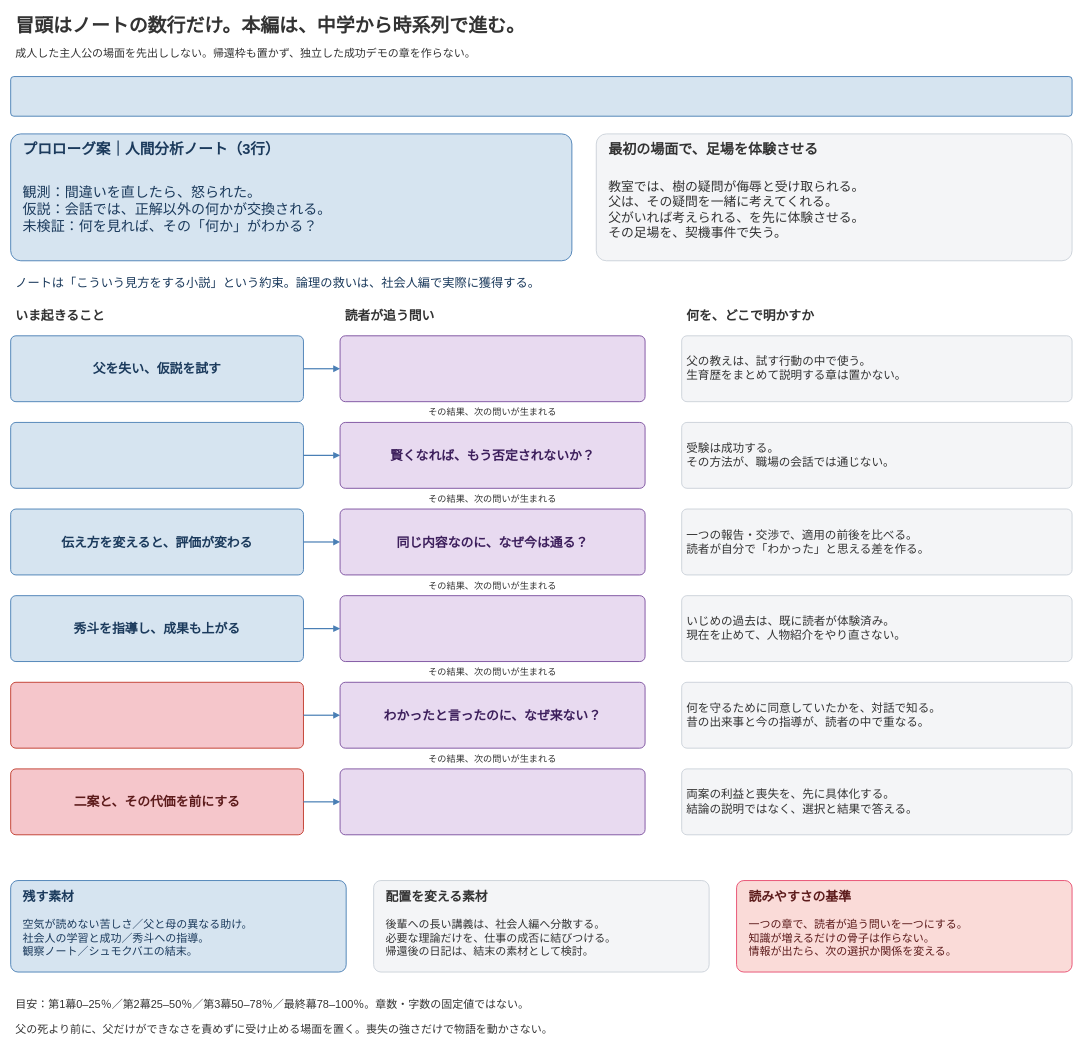
This 1083x1049 diagram has some shape labels left out. Each missing label, with the box of its shape:
この方法は、あの相手にも効くか？: (339, 595, 645, 662)
ノート抜粋 → 中学 → 進学・就職 → 論理の獲得 → 秀斗との再会 → 対決と選択: (10, 76, 1072, 116)
一人で、人間の規則を解けるか？: (339, 335, 645, 402)
教室を離れ、学力で成功する: (10, 422, 304, 488)
相手を外すか、条件を作り直すか？: (339, 768, 645, 835)
秀斗が最終試行に来ず、拒む: (10, 682, 304, 748)
